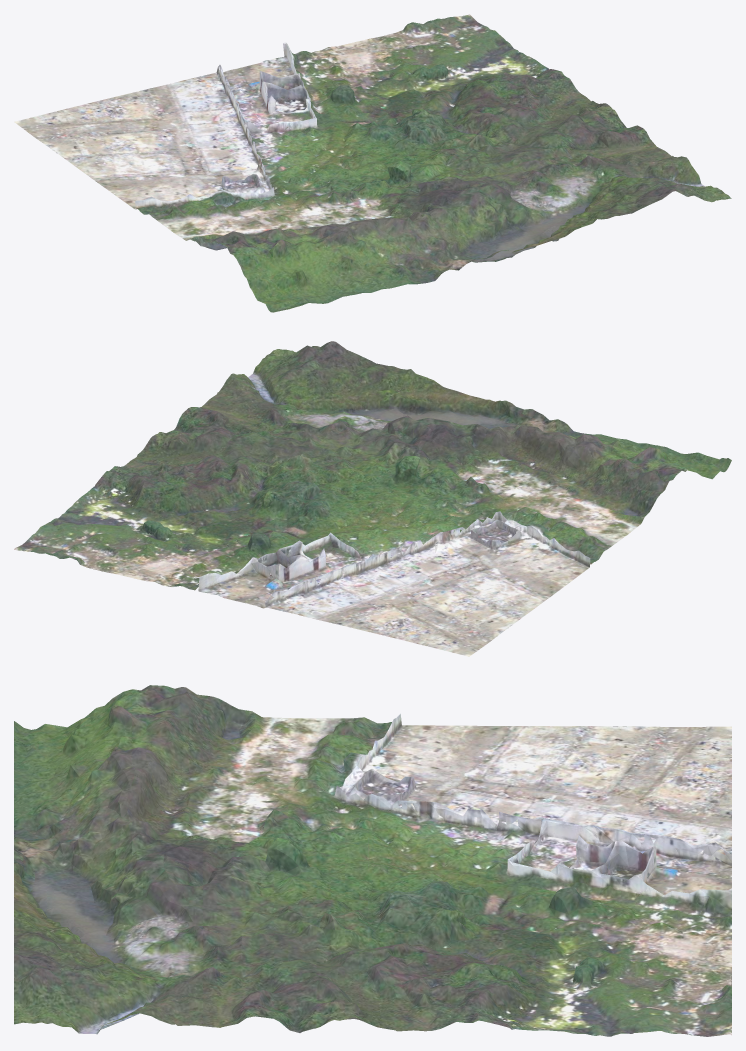
File: Tile_+001_+003_L19_00010t3.glb
3 views of the same model, one above another, from view 1: azimuth 30°, elevation 25°; view 2: azimuth 150°, elevation 25°; view 3: azimuth 270°, elevation 25° (orthographic). The views are drawn at different scales.
Parts seen in each view (by area): view 1: rtc; view 2: rtc; view 3: rtc.
Part boxes in pixels (x1,y1,x2,y2): rtc: [14, 14, 731, 312]; rtc: [14, 341, 731, 656]; rtc: [14, 685, 731, 1036].
Bounding box in the file's own units: 50.69 × 5 × 50.69.
4 materials, 4 textured.
